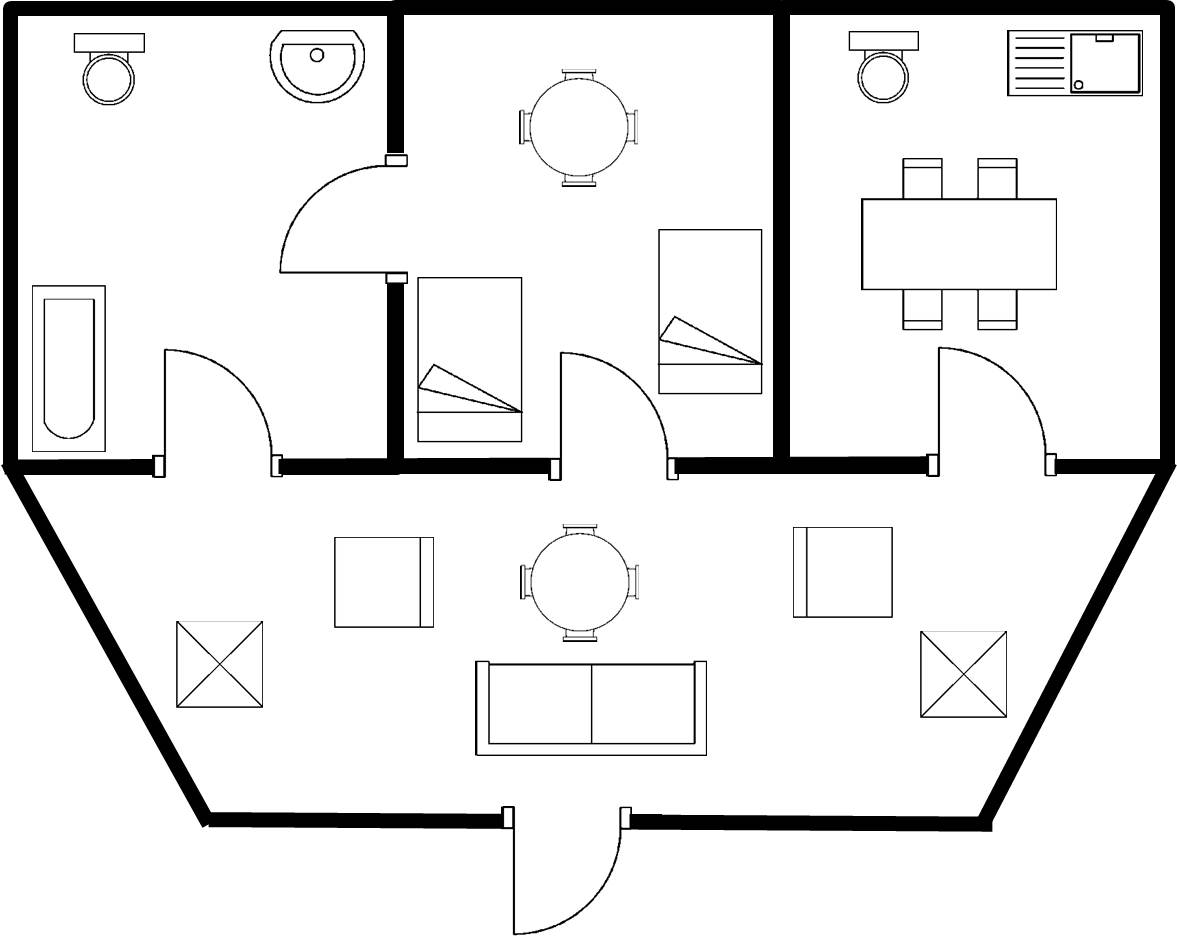bed: (411, 266, 529, 451), (650, 223, 767, 402)
coffee_table: (168, 613, 274, 718), (913, 623, 1015, 726)
dining_table: (850, 151, 1067, 341)
large_sink: (837, 23, 928, 112), (66, 25, 152, 111)
large_sofa: (467, 653, 718, 768)
round_table: (508, 58, 650, 198)
sink: (999, 23, 1153, 107)
small_sink: (260, 23, 370, 113)
small_sofa: (323, 530, 445, 640), (782, 518, 902, 627)
tub: (26, 279, 114, 455)
